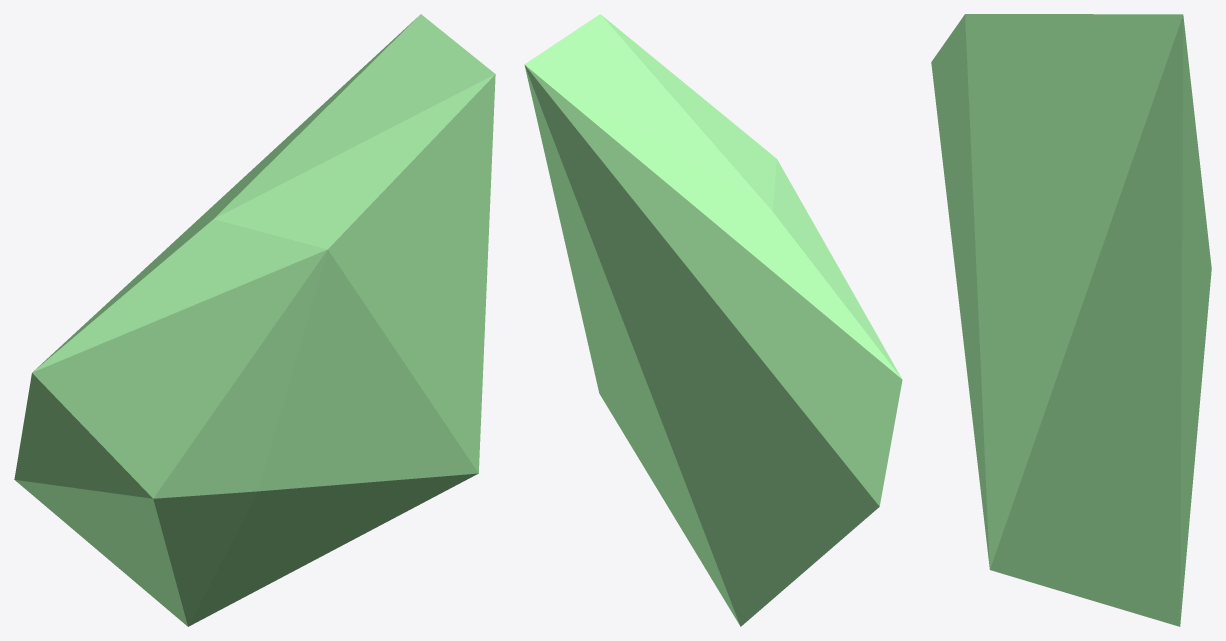
The model's file is xarm7_with_gripper_LR4_R560_link6_respondable_coll_9.dae.
3 renders of one model, left to right at view 1: azimuth 30°, elevation 25°; view 2: azimuth 150°, elevation 25°; view 3: azimuth 270°, elevation 25°, orthographic. The views are drawn at different scales.
Visible parts, largest first — view 1: Node_000001B88F9E31F0; view 2: Node_000001B88F9E31F0; view 3: Node_000001B88F9E31F0.
Boxes of the visible parts, left/top/right/bottom form: Node_000001B88F9E31F0: left=14, top=14, right=495, bottom=626; Node_000001B88F9E31F0: left=524, top=14, right=902, bottom=626; Node_000001B88F9E31F0: left=931, top=14, right=1211, bottom=626.
Size of the model in its own units: 0.028 by 0.0371 by 0.0122.
